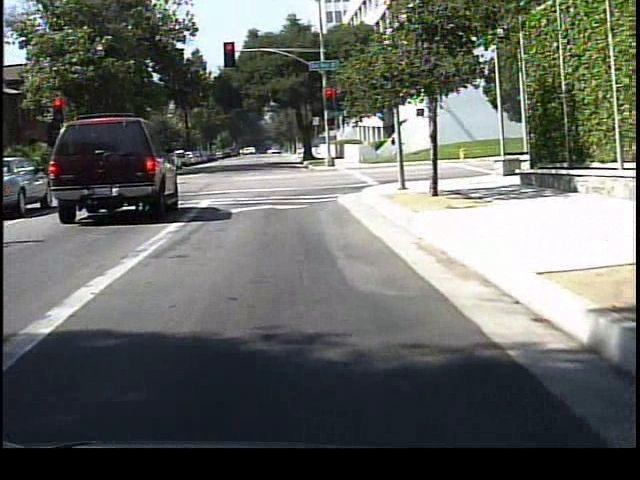person: (387, 127, 407, 166)
